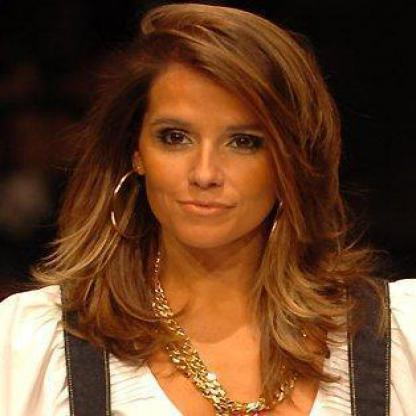long-hair: (45, 249, 376, 306)
